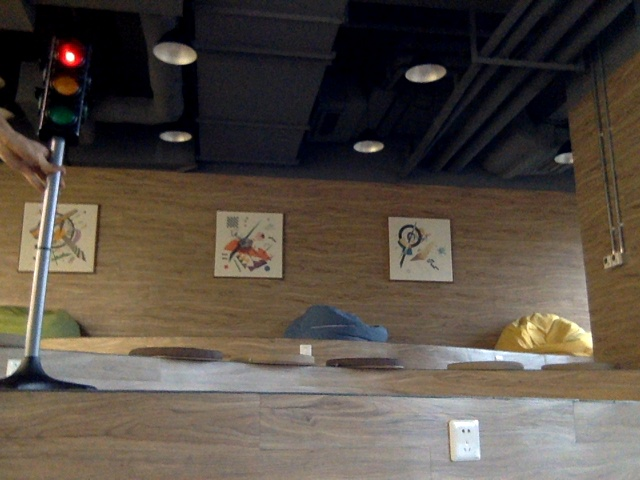red: (48, 42, 82, 134)
